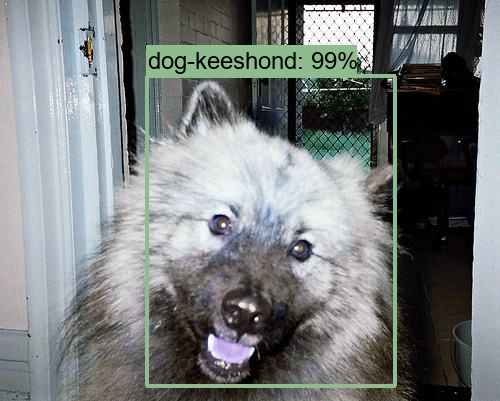dog-keeshond: (151, 81, 395, 383)
